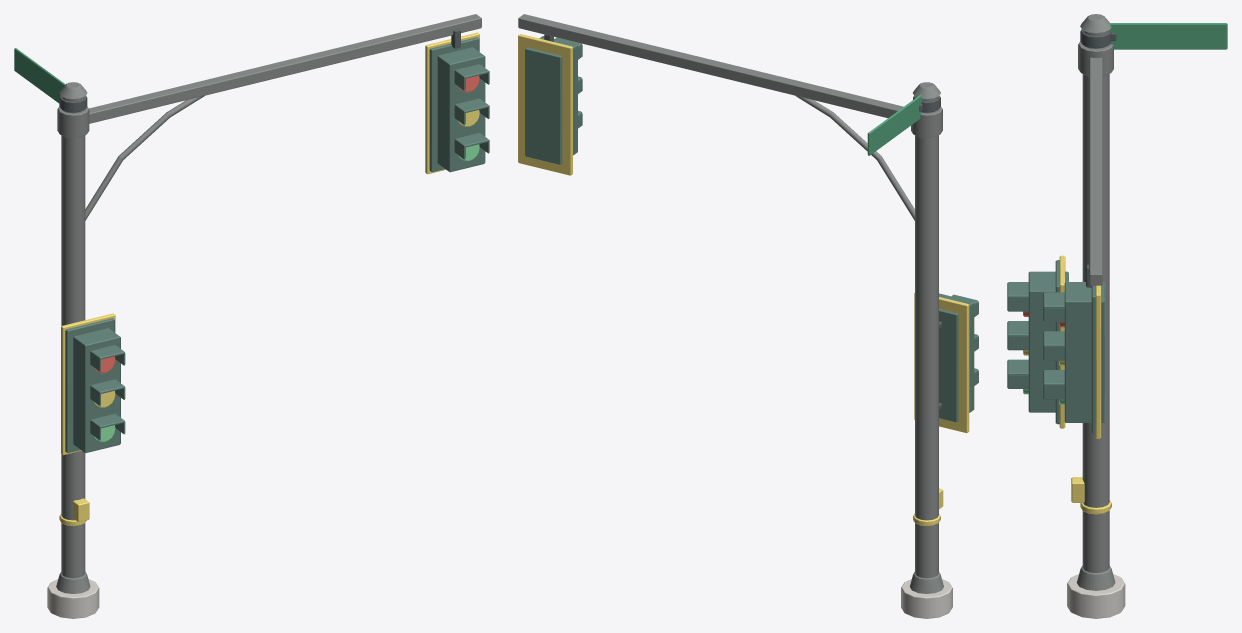
Rendered from traffic_signal.glb.
3 views of the same model, side by side, from view 1: azimuth 30°, elevation 25°; view 2: azimuth 150°, elevation 25°; view 3: azimuth 270°, elevation 25° (orthographic). The views are drawn at different scales.
Visible parts, largest first — view 1: signal; view 2: signal; view 3: signal.
Part boxes in pixels (box(x1,y1,x2,y2)): signal: box(14, 14, 489, 618); signal: box(518, 14, 978, 618); signal: box(1007, 14, 1227, 618).
Size of the model in its own units: 5.02 by 5.79 by 1.96.
